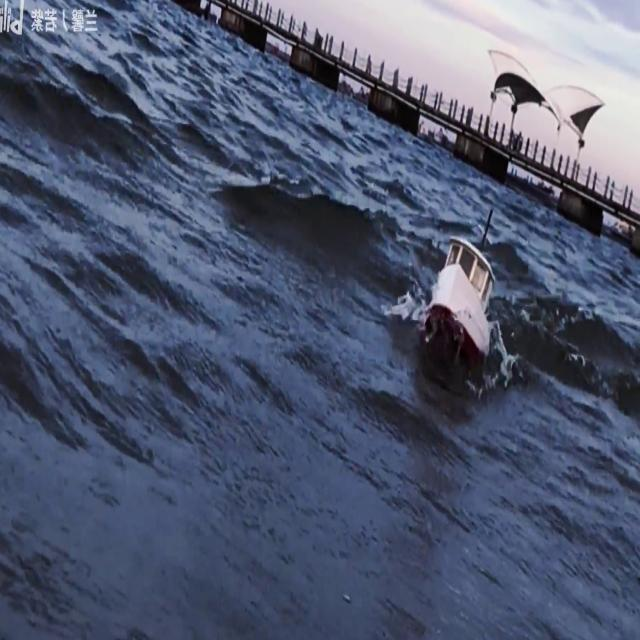houseboat: (418, 206, 497, 384)
